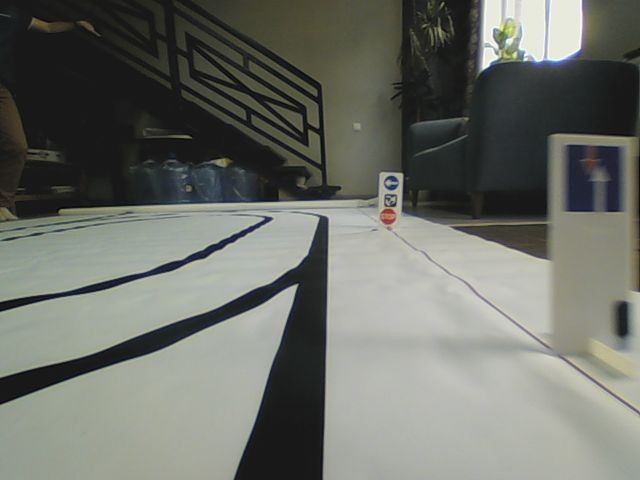Stop: (380, 209, 396, 224)
priority_movement: (562, 143, 627, 213)
